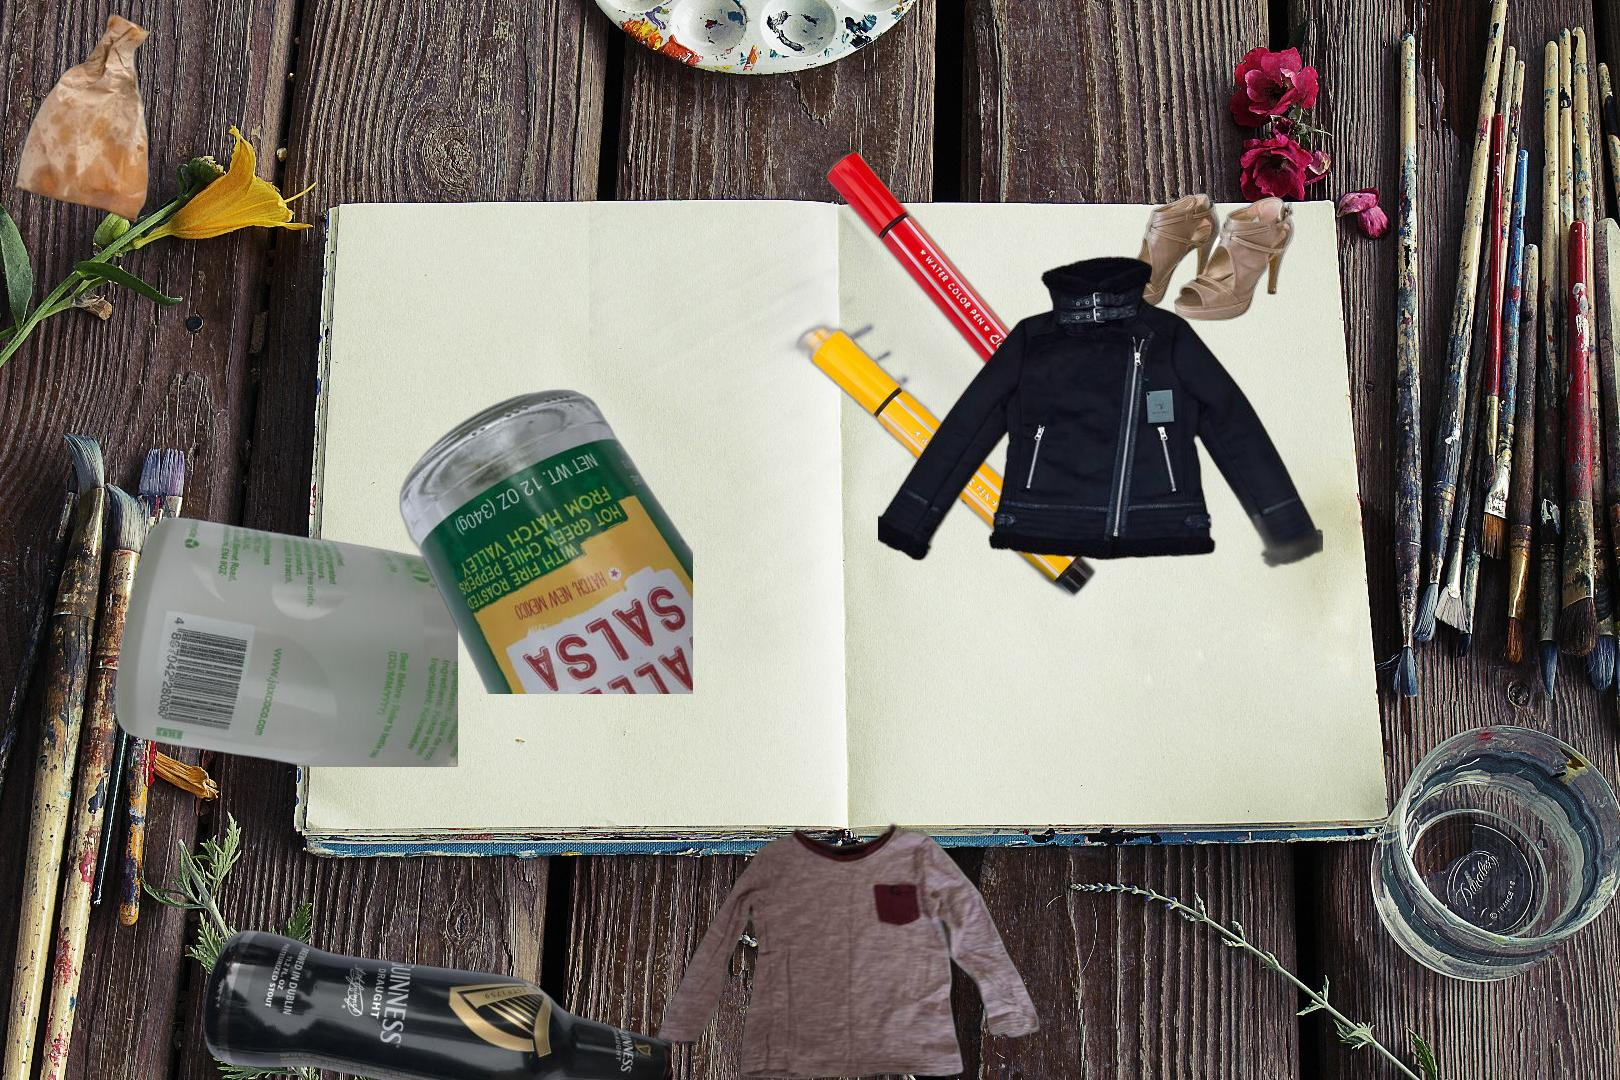clothes: (877, 253, 1323, 615), (655, 820, 1043, 1080)
glass: (395, 388, 693, 694), (110, 515, 458, 767), (198, 928, 673, 1080)
paper-bag: (11, 8, 152, 225)
penholder: (589, 65, 1188, 665)
shoes: (1096, 189, 1296, 324)
